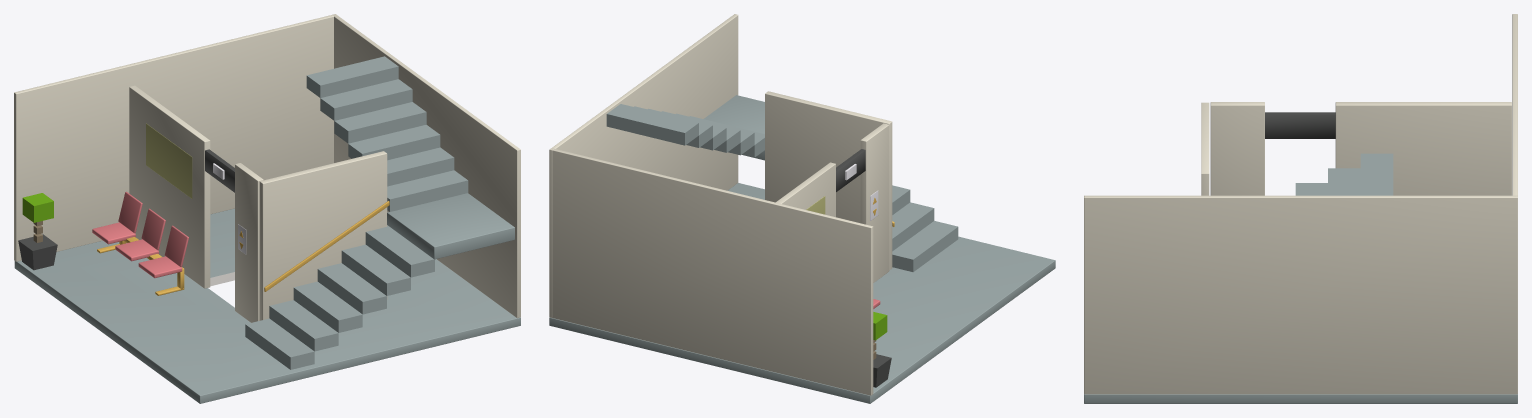
Rendered from lobby.gltf.
3 renders of one model, left to right at view 1: azimuth 30°, elevation 25°; view 2: azimuth 150°, elevation 25°; view 3: azimuth 270°, elevation 25°, orthographic. The views are drawn at different scales.
Parts seen in each view (by area): view 1: side_wall, floor.001, back_wall, stair_wall, stair_top, stair_bottom, chair_wall, platform, chair, lift_open_wall, poster.001, Cube.16 (+3 smaller); view 2: side_wall, floor.001, back_wall, stair_wall, stair_top, stair_bottom, lift_open_wall, chair_wall, platform, lift_open_top_wall.003, Cube.16; view 3: back_wall, chair_wall, lift_open_wall, floor.001, stair_top, lift_open_top_wall.003, side_wall, stair_wall.
Part boxes in pixels (x1,y1,x2,y2): side_wall: [14, 14, 334, 261]; floor.001: [14, 208, 520, 403]; back_wall: [332, 14, 520, 318]; stair_wall: [259, 151, 387, 320]; stair_top: [306, 56, 468, 211]; stair_bottom: [245, 226, 434, 369]; chair_wall: [129, 85, 210, 288]; platform: [387, 193, 514, 259]; chair: [92, 191, 188, 278]; lift_open_wall: [235, 163, 263, 322]; poster.001: [146, 123, 192, 198]; Cube.16: [18, 234, 57, 270]; side_wall: [551, 148, 873, 395]; floor.001: [549, 183, 1055, 403]; back_wall: [549, 14, 738, 317]; stair_wall: [765, 91, 892, 270]; stair_top: [606, 104, 764, 157]; stair_bottom: [892, 185, 958, 271]; lift_open_wall: [860, 123, 889, 282]; chair_wall: [775, 162, 835, 217]; platform: [703, 95, 764, 160]; lift_open_top_wall.003: [836, 149, 865, 191]; Cube.16: [873, 354, 891, 387]; back_wall: [1084, 195, 1517, 394]; chair_wall: [1335, 102, 1511, 195]; lift_open_wall: [1210, 102, 1264, 195]; floor.001: [1084, 394, 1517, 403]; stair_top: [1295, 153, 1393, 195]; lift_open_top_wall.003: [1265, 112, 1335, 138]; side_wall: [1512, 14, 1517, 196]; stair_wall: [1201, 102, 1209, 195].
Size of the model in its own units: 8.04 by 4.2 by 8.
